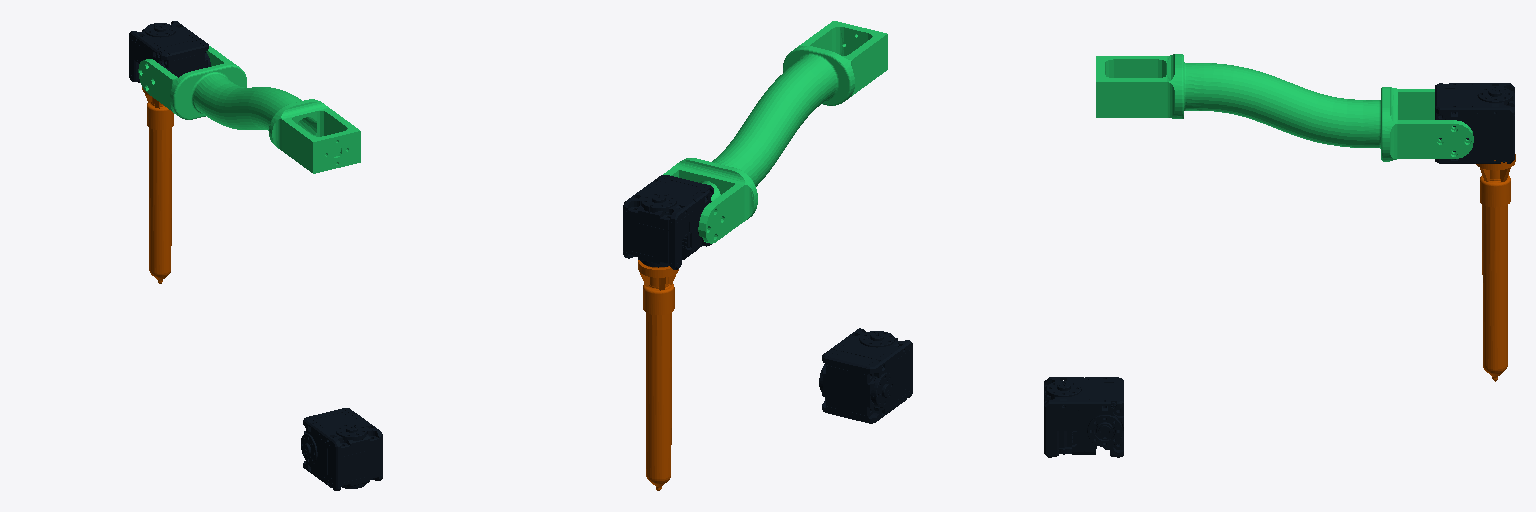
URDF robot description (archie):
<?xml version="1.0" ?>
<!-- =================================================================================== -->
<!-- |    This document was autogenerated by xacro from [local-path]/catkin_ws/src/ARCHIE/archie_description/urdf/manipulator_main.xacro | -->
<!-- |    EDITING THIS FILE BY HAND IS NOT RECOMMENDED                                 | -->
<!-- =================================================================================== -->
<robot name="archie">
    <link name="world" />
    <!-- Fix robot to Gazebo world -->
    <joint name="fixed" type="fixed">
        <parent link="world" />
        <child link="base_link" />
        <origin rpy="0 0 0" xyz="0 0 0" />
    </joint>
    <link name="base_link">
        <inertial>
            <origin rpy="0 0 0" xyz="5.34102915090199E-06 0.00149611119634719 0.027324411040906" />
            <mass value="0.399055600639488" />
            <inertia ixx="0.101795155" ixy="-0.0000106" ixz="-0.000004255" iyy="0.1049705" iyz="-0.0025166" izz="0.113806134" />
        </inertial>
        <visual>
            <origin rpy="0 0 0" xyz="0 0 0" />
            <geometry>
                <mesh filename="package://archie_description/meshes/base_link.STL" />
            </geometry>
            <material name="">
                <color rgba="0.0549 0.4 0.3333 1.0" />
            </material>
        </visual>
        <collision>
            <origin rpy="0 0 0" xyz="0 0 0" />
            <geometry>
                <mesh filename="package://archie_description/meshes/base_link.STL" />
            </geometry>
        </collision>
    </link>
    <link name="link_1">
        <inertial>
            <origin rpy="0 0 0" xyz="0.000495971250250975 -0.0119998499605218 0.0192958783777655" />
            <mass value="0.102" />
            <inertia ixx="0.004708" ixy="0.0000362" ixz="-0.0000863" iyy="0.0034761" iyz="-0.0013745" izz="0.0024097" />
        </inertial>
        <visual>
            <origin rpy="0 0 0" xyz="0 0 0" />
            <geometry>
                <mesh filename="package://archie_description/meshes/link_1.STL" />
            </geometry>
            <material name="">
                <color rgba="0.09019 0.12549 0.164706 1.0" />
            </material>
        </visual>
        <collision>
            <origin rpy="0 0 0" xyz="0 0 0" />
            <geometry>
                <mesh filename="package://archie_description/meshes/link_1.STL" />
            </geometry>
        </collision>
    </link>
    <joint name="joint_1" type="revolute">
        <origin rpy="0 0 3.14159265358979" xyz="0 0 0.07" />
        <parent link="base_link" />
        <child link="link_1" />
        <axis xyz="0 0 1" />
        <limit effort="300" lower="-1.57" upper="1.57" velocity="3" />
    </joint>
    <link name="link_2">
        <inertial>
            <origin rpy="0 0 0" xyz="-0.00375223885247785 0.0986651693444381 3.09623365033344E-07" />
            <mass value="0.102283747087815" />
            <inertia ixx="0.125060728" ixy="0.017650428" ixz="0.000000038" iyy="0.0057453" iyz="-0.00000199" izz="0.1262878" />
        </inertial>
        <visual>
            <origin rpy="0 0 0" xyz="-0.004 0.0012 0" />
            <geometry>
                <mesh filename="package://archie_description/meshes/link_2.STL" />
            </geometry>
            <material name="">
                <color rgba="0.1804 0.8 0.4431 1.0" />
            </material>
        </visual>
        <collision>
            <origin rpy="0 0 0" xyz="-0.004 0.0012 0" />
            <geometry>
                <mesh filename="package://archie_description/meshes/link_2.STL" />
            </geometry>
        </collision>
    </link>
    <joint name="joint_2" type="revolute">
        <origin rpy="1.5707963267949 0 -1.5707963267949" xyz="0 -0.024 0.0188" />
        <parent link="link_1" />
        <child link="link_2" />
        <axis xyz="0 0 1" />
        <limit effort="300" lower="-0.78" upper="0.78" velocity="3" />
    </joint>
    <link name="link_3">
        <inertial>
            <origin rpy="0 0 0" xyz="0.07998503185917 0.000495971402698678 0.000495878377765527" />
            <mass value="0.102" />
            <inertia ixx="0.004708" ixy="0.0000362" ixz="-0.0000863" iyy="0.0034761" iyz="-0.0013745" izz="0.0024097" />
        </inertial>
        <visual>
            <origin rpy="0 0 0" xyz="0.006 0 0" />
            <geometry>
                <mesh filename="package://archie_description/meshes/link_3.STL" />
            </geometry>
            <material name="">
                <color rgba="0.09019 0.12549 0.164706 1.0" />
            </material>
        </visual>
        <collision>
            <origin rpy="0 0 0" xyz="0.006 0 0" />
            <geometry>
                <mesh filename="package://archie_description/meshes/link_3.STL" />
            </geometry>
        </collision>
    </link>
    <joint name="joint_3" type="revolute">
        <origin rpy="0 0 1.5707963267949" xyz="-0.024 0.195 0" />
        <parent link="link_2" />
        <child link="link_3" />
        <axis xyz="0 0 1" />
        <limit effort="300" lower="-1.15" upper="2" velocity="3" />
    </joint>
    <link name="link_4">
        <inertial>
            <origin rpy="0 0 0" xyz="-0.0140962967782675 4.33165647224752E-07 0.105115025906125" />
            <mass value="0.105070462984836" />
            <inertia ixx="0.1573144" ixy="0.0195671" ixz="0.0000000040" iyy="0.0051205" iyz="0.0000001350" izz="0.1589789" />
        </inertial>
        <visual>
            <origin rpy="0 0 0" xyz="0 0 0" />
            <geometry>
                <mesh filename="package://archie_description/meshes/link_4.STL" />
            </geometry>
            <material name="">
                <color rgba="0.1804 0.8 0.4431 1.0" />
            </material>
        </visual>
        <collision>
            <origin rpy="0 0 0" xyz="0 0 0" />
            <geometry>
                <mesh filename="package://archie_description/meshes/link_4.STL" />
            </geometry>
        </collision>
    </link>
    <joint name="joint_4" type="revolute">
        <origin rpy="1.5707963267949 0 0" xyz="0.0200000000000001 -0.02 0" />
        <parent link="link_3" />
        <child link="link_4" />
        <axis xyz="0 0 1" />
        <limit effort="200" lower="-3.14" upper="3.14" velocity="3" />
    </joint>
    <link name="link_5">
        <inertial>
            <origin rpy="0 0 0" xyz="-0.00570412111171636 -0.00950015024510067 0.000495971250250971" />
            <mass value="0.0982" />
            <inertia ixx="0.004708" ixy="0.0000362" ixz="-0.0000863" iyy="0.0034761" iyz="-0.0013745" izz="0.0024097" />
        </inertial>
        <visual>
            <origin rpy="0 0 0" xyz="0.006 -0.0025 0" />
            <geometry>
                <mesh filename="package://archie_description/meshes/link_5.STL" />
            </geometry>
            <material name="">
                <color rgba="0.09019 0.12549 0.164706 1.0" />
            </material>
        </visual>
        <collision>
            <origin rpy="0 0 0" xyz="0.006 -0.0025 0" />
            <geometry>
                <mesh filename="package://archie_description/meshes/link_5.STL" />
            </geometry>
        </collision>
    </link>
    <joint name="joint_5" type="revolute">
        <origin rpy="-1.5707963267949 0 0" xyz="-0.02562 0 0.2075" />
        <parent link="link_4" />
        <child link="link_5" />
        <axis xyz="0 0 1" />
        <limit effort="200" lower="-1.15" upper="2" velocity="3" />
    </joint>
    <link name="link_6">
        <inertial>
            <origin rpy="0 0 0" xyz="0.00150005999207131 2.13388833428252E-08 0.0547308096922248" />
            <mass value="0.000147831569305485" />
            <inertia ixx="3.66048153630127E-09" ixy="1.57772181044196E-25" ixz="1.17223439029209E-23" iyy="3.66048153630127E-09" iyz="8.32319653746676E-25" izz="7.31480342388148E-09" />
        </inertial>
        <visual>
            <origin rpy="0 0 0" xyz="0 0 0" />
            <geometry>
                <mesh filename="package://archie_description/meshes/link_6.STL" />
            </geometry>
            <material name="">
                <color rgba="0.729411764705882 0.356862745098039 0.0235294117647059 1" />
            </material>
        </visual>
        <collision>
            <origin rpy="0 0 0" xyz="0 0 0" />
            <geometry>
                <mesh filename="package://archie_description/meshes/link_6.STL" />
            </geometry>
        </collision>
    </link>
    <joint name="joint_6" type="revolute">
        <origin rpy="1.5707963267949 0 -1.5707963267949" xyz="-0.02 -0.024 0" />
        <parent link="link_5" />
        <child link="link_6" />
        <axis xyz="0 0 1" />
        <limit effort="200" lower="-3.14" upper="3.14" velocity="3" />
    </joint>
    <!-- transmission list -->
    <transmission name="link_1_trans">
        <type>transmission_interface/SimpleTransmission</type>
        <joint name="joint_1">
            <hardwareInterface>hardware_interface/PositionJointInterface</hardwareInterface>
        </joint>
        <actuator name="link_1_motor">
            <hardwareInterface>hardware_interface/PositionJointInterface</hardwareInterface>
            <mechanicalReduction>1</mechanicalReduction>
        </actuator>
    </transmission>
    <transmission name="link_2_trans">
        <type>transmission_interface/SimpleTransmission</type>
        <joint name="joint_2">
            <hardwareInterface>hardware_interface/PositionJointInterface</hardwareInterface>
        </joint>
        <actuator name="link_2_motor">
            <hardwareInterface>hardware_interface/PositionJointInterface</hardwareInterface>
            <mechanicalReduction>1</mechanicalReduction>
        </actuator>
    </transmission>
    <transmission name="link_3_trans">
        <type>transmission_interface/SimpleTransmission</type>
        <joint name="joint_3">
            <hardwareInterface>hardware_interface/PositionJointInterface</hardwareInterface>
        </joint>
        <actuator name="link_3_motor">
            <hardwareInterface>hardware_interface/PositionJointInterface</hardwareInterface>
            <mechanicalReduction>1</mechanicalReduction>
        </actuator>
    </transmission>
    <transmission name="link_4_trans">
        <type>transmission_interface/SimpleTransmission</type>
        <joint name="joint_4">
            <hardwareInterface>hardware_interface/PositionJointInterface</hardwareInterface>
        </joint>
        <actuator name="link_4_motor">
            <hardwareInterface>hardware_interface/PositionJointInterface</hardwareInterface>
            <mechanicalReduction>1</mechanicalReduction>
        </actuator>
    </transmission>
    <transmission name="link_5_trans">
        <type>transmission_interface/SimpleTransmission</type>
        <joint name="joint_5">
            <hardwareInterface>hardware_interface/PositionJointInterface</hardwareInterface>
        </joint>
        <actuator name="link_5_motor">
            <hardwareInterface>hardware_interface/PositionJointInterface</hardwareInterface>
            <mechanicalReduction>1</mechanicalReduction>
        </actuator>
    </transmission>
    <transmission name="link_6_trans">
        <type>transmission_interface/SimpleTransmission</type>
        <joint name="joint_6">
            <hardwareInterface>hardware_interface/PositionJointInterface</hardwareInterface>
        </joint>
        <actuator name="link_6_motor">
            <hardwareInterface>hardware_interface/PositionJointInterface</hardwareInterface>
            <mechanicalReduction>1</mechanicalReduction>
        </actuator>
    </transmission>
    <!-- end of transmission list -->
    <!-- Gazebo-specific link properties -->
    <gazebo reference="link_1">
        <selfCollide>true</selfCollide>
        <material>Gazebo/Black</material>
        <plugin name="gazebo_ros_control">
            <robotNamespace>/</robotNamespace>
        </plugin>
    </gazebo>
    <gazebo reference="link_2">
        <selfCollide>true</selfCollide>
        <material>Gazebo/Orange</material>
    </gazebo>
    <gazebo reference="link_3">
        <selfCollide>true</selfCollide>
        <material>Gazebo/Black</material>
    </gazebo>
    <gazebo reference="link_4">
        <selfCollide>true</selfCollide>
        <material>Gazebo/Orange</material>
    </gazebo>
    <gazebo reference="link_5">
        <selfCollide>true</selfCollide>
        <material>Gazebo/Black</material>
    </gazebo>
    <gazebo reference="link_6">
        <selfCollide>true</selfCollide>
    </gazebo>
    <!-- ros_control plugin -->
    <gazebo>
        <plugin filename="libgazebo_ros_control.so" name="control">
            <robotNamespace>/</robotNamespace>
            <robotSimType>gazebo_ros_control/DefaultRobotHWSim</robotSimType>
        </plugin>
    </gazebo>
    <link name="ee_marker">
        <inertial>
            <origin rpy="0 0 0" xyz="2.13388833621327E-08 -6.02521102034508E-08 0.0650409276148536" />
            <mass value="0.0340927901942582" />
            <inertia ixx="3.50572267074418E-05" ixy="7.61605742281784E-12" ixz="1.82035090014301E-12" iyy="3.5057232927115E-05" iyz="-2.2151447314013E-11" izz="1.13056449928989E-06" />
        </inertial>
        <visual>
            <origin rpy="0 0 0" xyz="0 0 0" />
            <geometry>
                <mesh filename="package://archie_description/meshes/ee_marker.STL" />
            </geometry>
            <material name="">
                <color rgba="0.729411764705882 0.356862745098039 0.0235294117647059 1" />
            </material>
        </visual>
        <collision>
            <origin rpy="0 0 0" xyz="0 0 0" />
            <geometry>
                <mesh filename="package://archie_description/meshes/ee_marker.STL" />
            </geometry>
        </collision>
    </link>
    <joint name="ee_marker_joint" type="fixed">
        <parent link="link_6" />
        <child link="ee_marker" />
        <origin rpy="0 0 0" xyz="0 0 0" />
    </joint>
    <!-- end effect point 
  <link name="end_effect_point">
    <visual>
      <origin rpy="0 0 0" xyz="0 0 0"/>
      <geometry>
        <box size="0.01 0.01 0.01"/>
      </geometry>
    </visual>
    <collision>
      <origin rpy="0 0 0" xyz="0 0 0.14"/>
      <geometry>
        <box size="0.002 0.002 0.002"/>
      </geometry>
    </collision>
  </link>
  -->
    <!-- end effect point 
  <joint name="end_effect_point" type="fixed">
    <origin rpy="0 0 0" xyz="0 0 0"/>
    <parent link="ee_marker"/>
    <child link="end_effect_point"/>
  </joint>
  -->
</robot>

--- Facts derived from the render (not from the file) ---
The picture shows the robot from 3 angles, left to right: view 1: azimuth 30°, elevation 25°; view 2: azimuth 150°, elevation 25°; view 3: azimuth 270°, elevation 25°; orthographic projection.
Model archie with 9 links and 8 joints (6 revolute, 2 fixed), rooted at world, posed all joints at 0.
Visible links, largest first — view 1: link_4, link_1, ee_marker, link_5; view 2: link_4, link_1, link_5, ee_marker; view 3: link_4, link_1, ee_marker, link_5.
Link boxes in pixels (<box>): link_4: <box>138,46,360,173</box>; link_1: <box>301,408,382,490</box>; ee_marker: <box>142,87,173,283</box>; link_5: <box>129,21,210,82</box>; link_4: <box>663,21,887,243</box>; link_1: <box>819,328,912,423</box>; link_5: <box>623,175,713,269</box>; ee_marker: <box>638,260,678,490</box>; link_4: <box>1096,54,1473,161</box>; link_1: <box>1044,377,1123,457</box>; ee_marker: <box>1476,154,1515,381</box>; link_5: <box>1435,83,1514,163</box>.
Bounding box of the posed robot: 0.056 × 0.2745 × 0.2493 m (x, y, z).
Meshes: 8 distinct files referenced, 5 mesh visuals loaded (5 binary STL); not drawn: 3 (reference not matched to a file when rendering).
